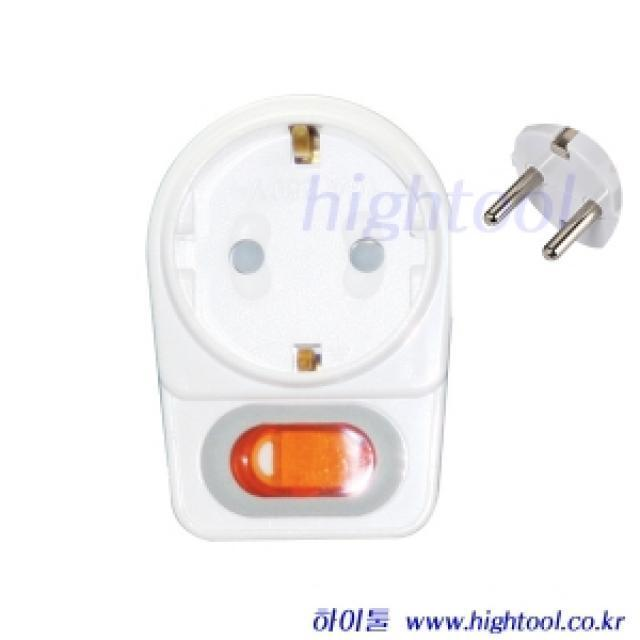typeb: (119, 78, 487, 558)
